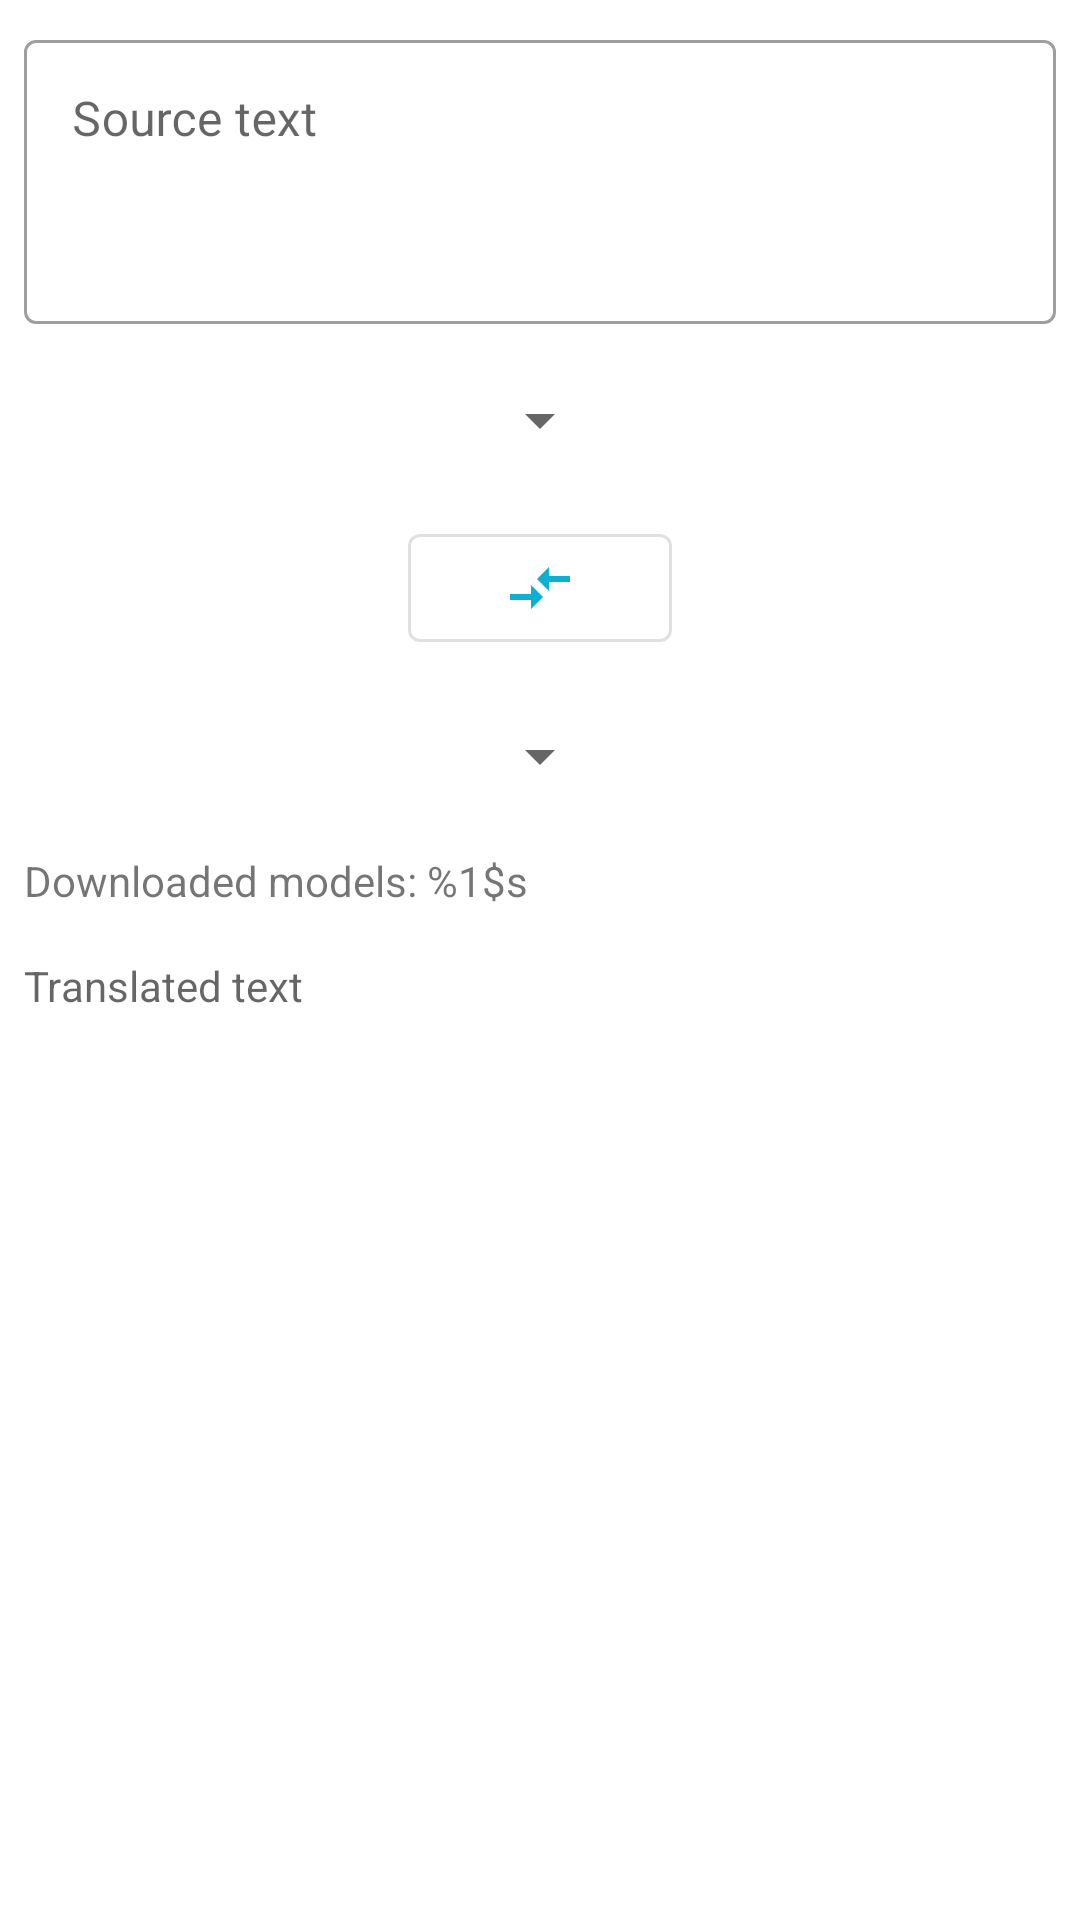

Icons on this 1080*1920 Android screen, each with the point to tap as point (x, y):
compare arrows: point (540, 588)
